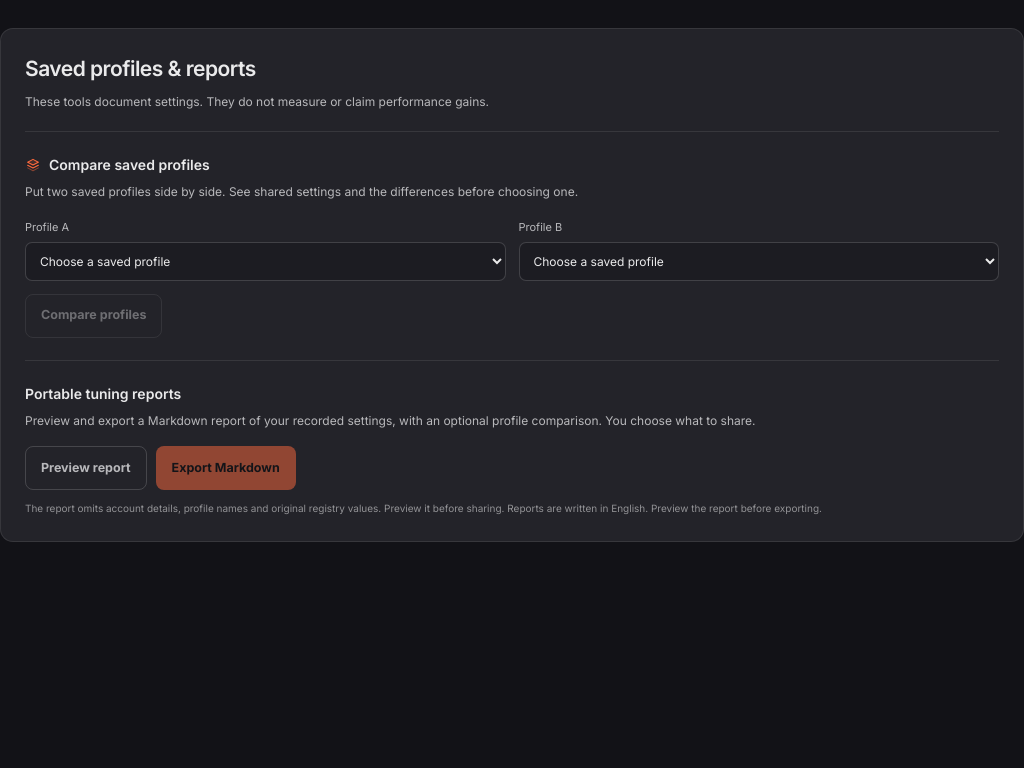
LifetimeTools › says so when a profile carries settings this build does not know
The width and height of the screenshot is (1024, 768).
Select "Gaming" in the dropdown labelled "Profile A": (265, 261) [25,242,506,281]
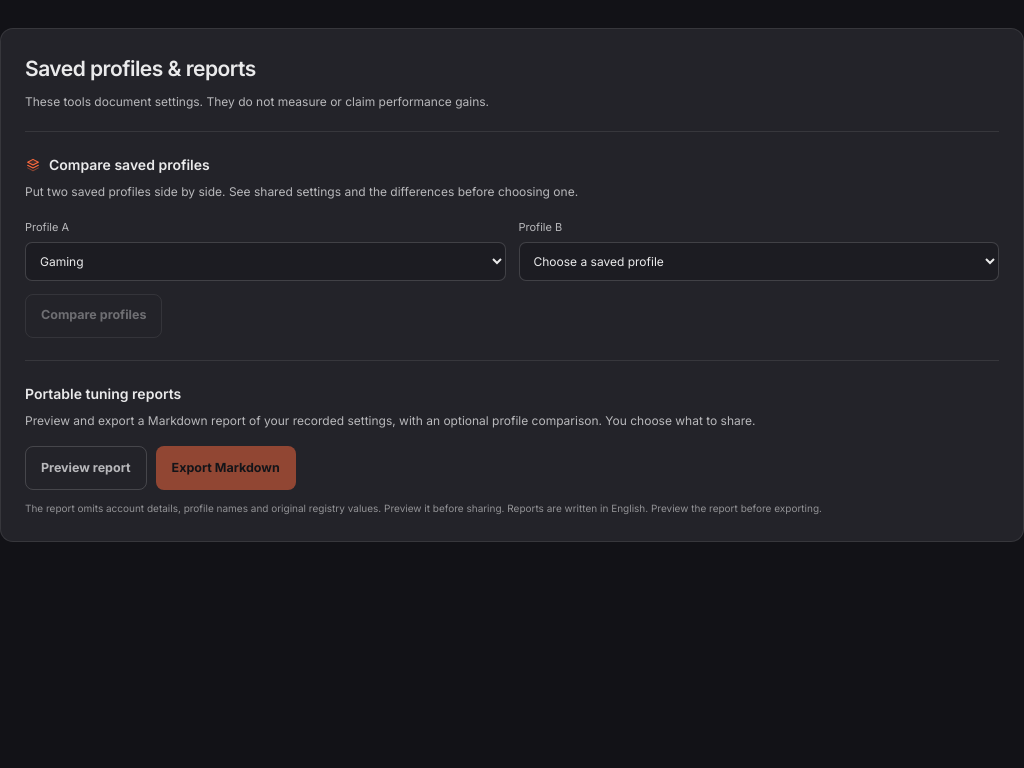
Select "Work" in the dropdown labelled "Profile B": (759, 261) [518,242,999,281]
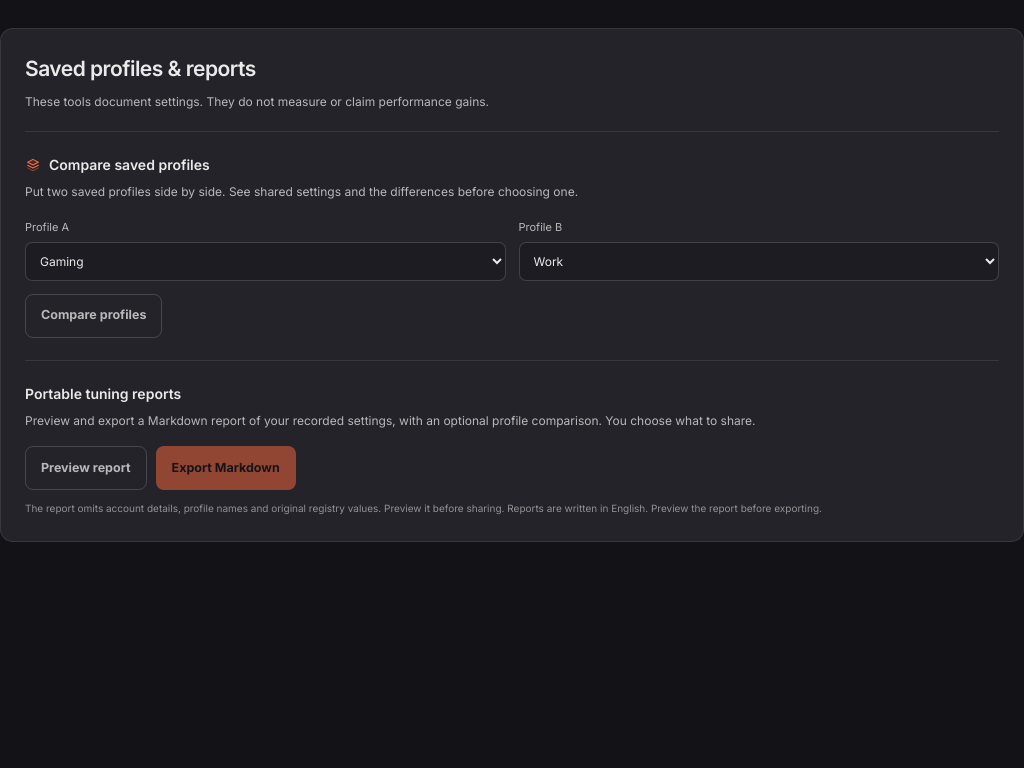
Click the button "Compare profiles": (94, 316) [25,294,162,338]
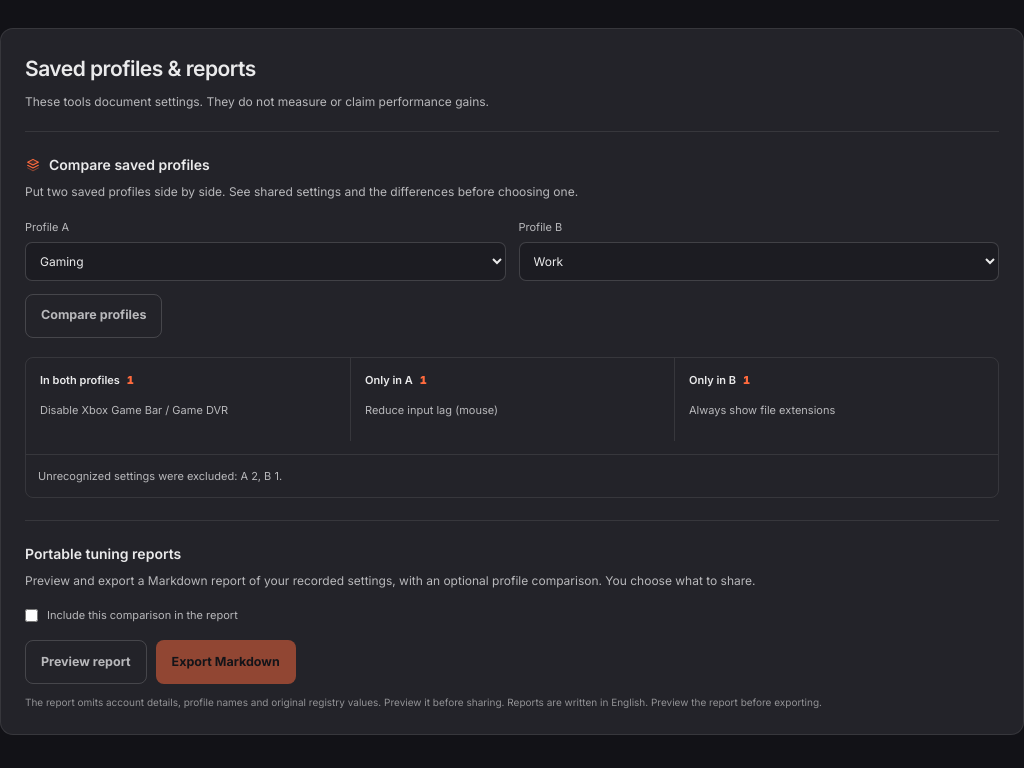
Expected: the heading "In both profiles 1" is shown, [40,373,134,387]
Expected: the text "Unrecognized settings were excluded: A 2, B 1." is shown, [26,454,998,497]
